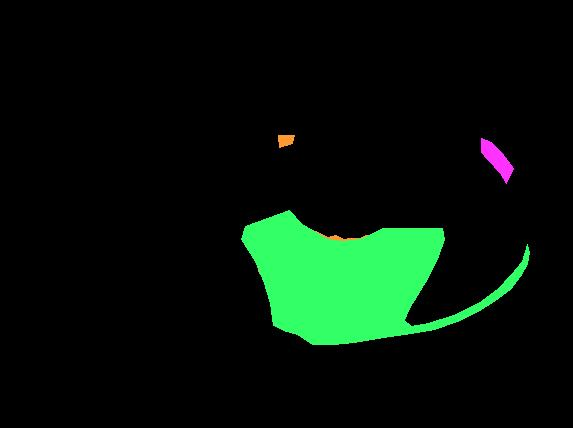Broken part: (241, 210, 529, 344)
Dent: (481, 138, 513, 183)
Paint chip: (300, 224, 373, 247), (323, 242, 346, 273), (257, 258, 275, 273), (278, 135, 294, 147), (250, 233, 259, 243)
